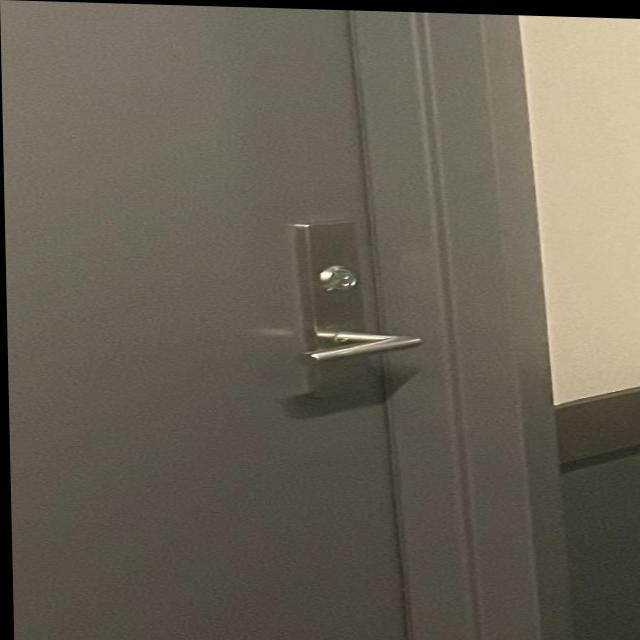door_handle: (287, 317, 448, 380)
